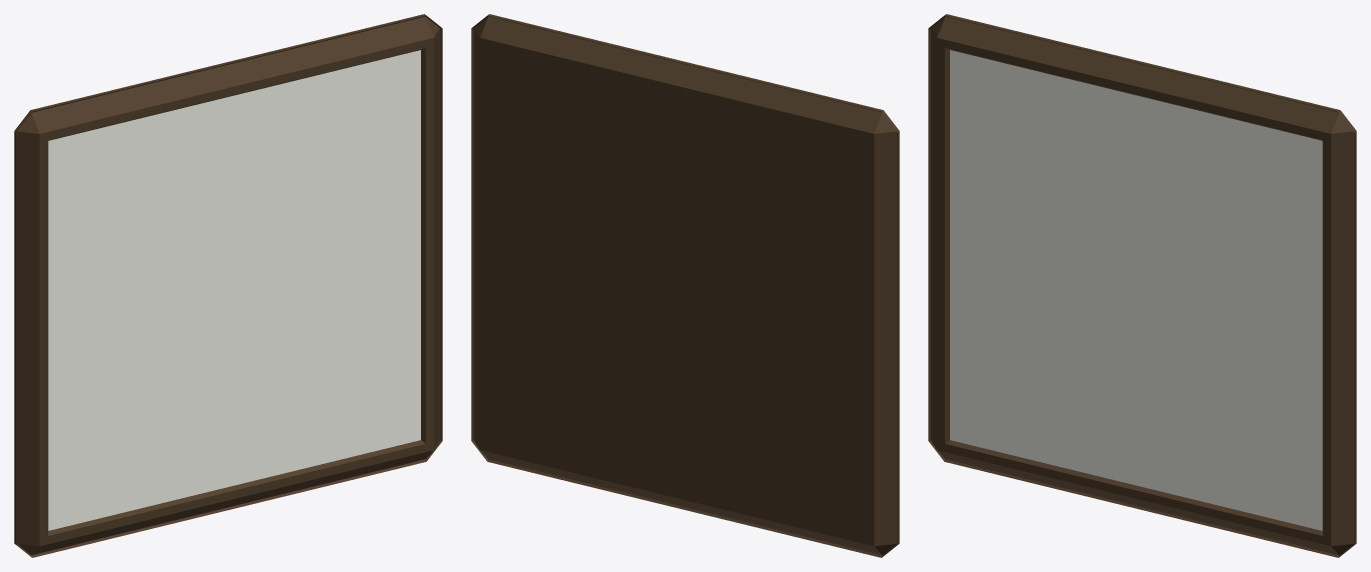
The model's file is frame.fbx.
3 renders of one model, left to right at view 1: azimuth 30°, elevation 25°; view 2: azimuth 150°, elevation 25°; view 3: azimuth 330°, elevation 25°, orthographic.
Visible parts, largest first — view 1: Cube; view 2: Cube; view 3: Cube.
Part boxes in pixels (<box>): Cube: <box>14,14,442,557</box>; Cube: <box>471,14,899,557</box>; Cube: <box>928,14,1356,557</box>.
Bounding box in the file's own units: 200 × 200 × 13.56.
